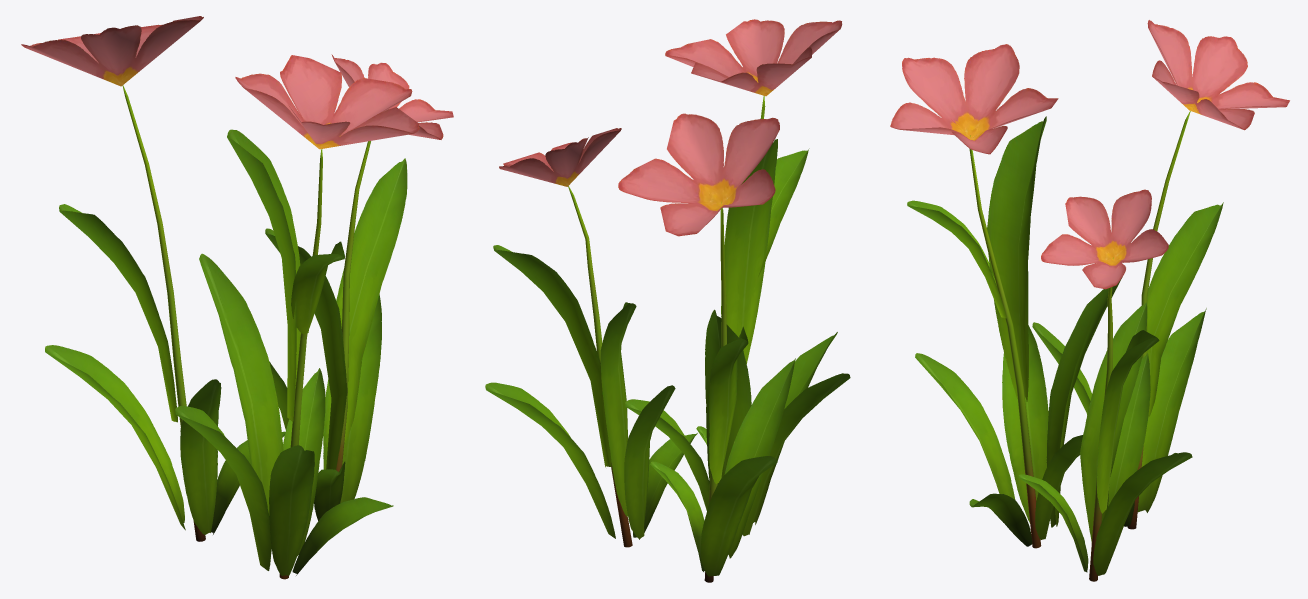
The model's file is flower-3-group.glb.
3 views of the same model, side by side, from view 1: azimuth 30°, elevation 25°; view 2: azimuth 150°, elevation 25°; view 3: azimuth 270°, elevation 25° (orthographic). The views are drawn at different scales.
Visible parts, largest first — view 1: Flower_3_Group; view 2: Flower_3_Group; view 3: Flower_3_Group.
Boxes of the visible parts, left/top/right/bottom form: Flower_3_Group: left=21, top=16, right=453, bottom=579; Flower_3_Group: left=485, top=19, right=850, bottom=582; Flower_3_Group: left=890, top=20, right=1289, bottom=581.
Size of the model in its own units: 1.49 by 2.05 by 1.59.
Materials: 2 (2 with a texture image).
